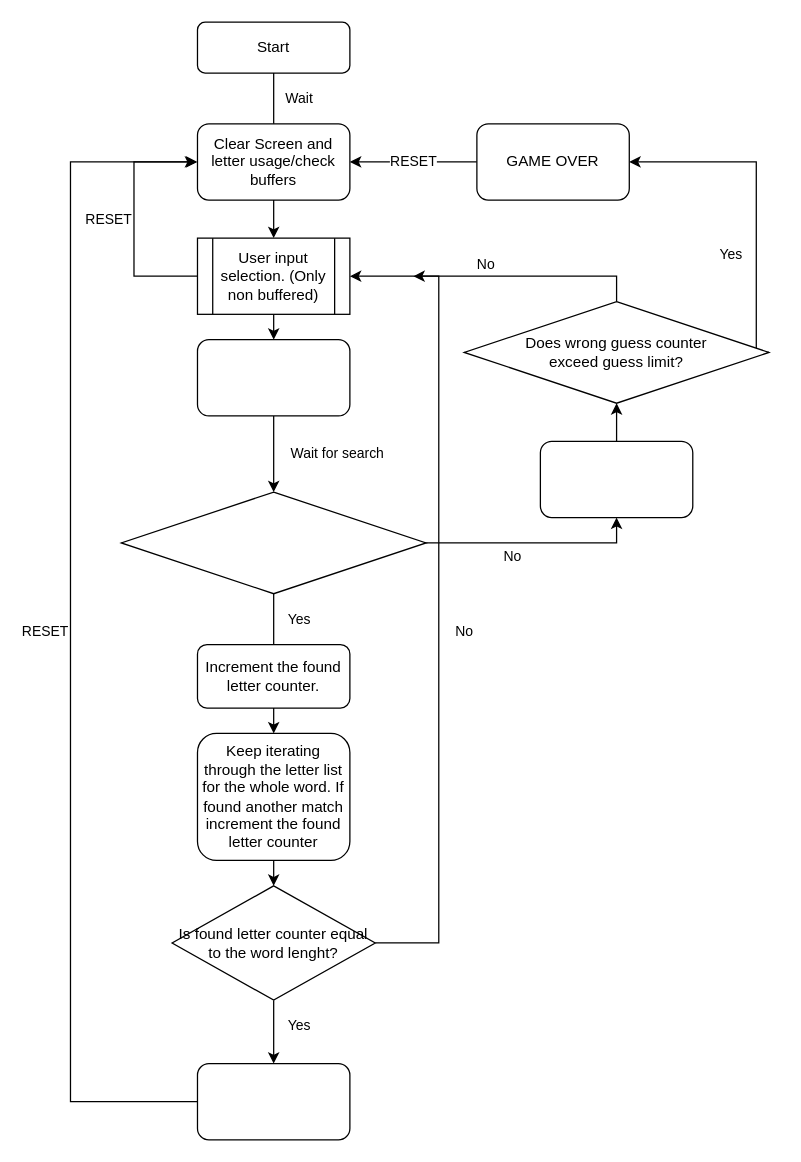
This 801x1162 diagram has some shape labels left out. The shapes that lost their labels are listed below. From the top down, each one's box as (x1, y1, x2, y2) in pixels, then its label:
(196, 338, 350, 416): Fill letter check buffer and search for the first instance
(539, 440, 693, 518): Increment wrong guess counter.
(120, 491, 426, 594): Did we find the number on check buffer for the first time?
(196, 1062, 350, 1140): YOU WON!
